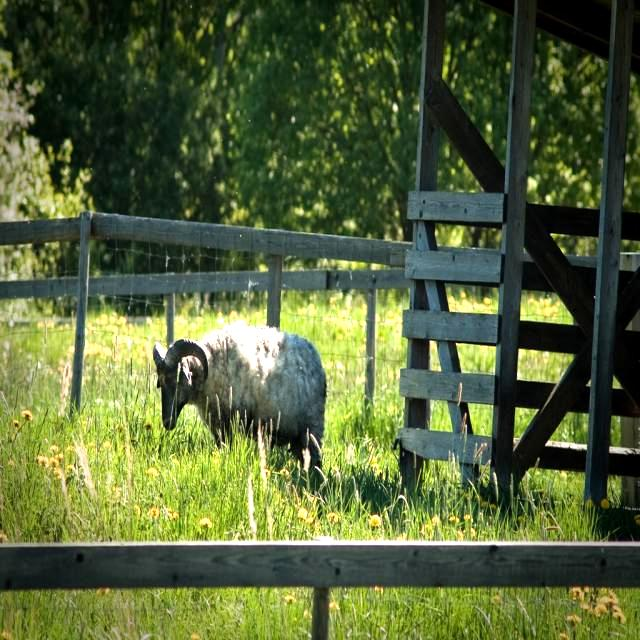sheep: (152, 320, 323, 466)
